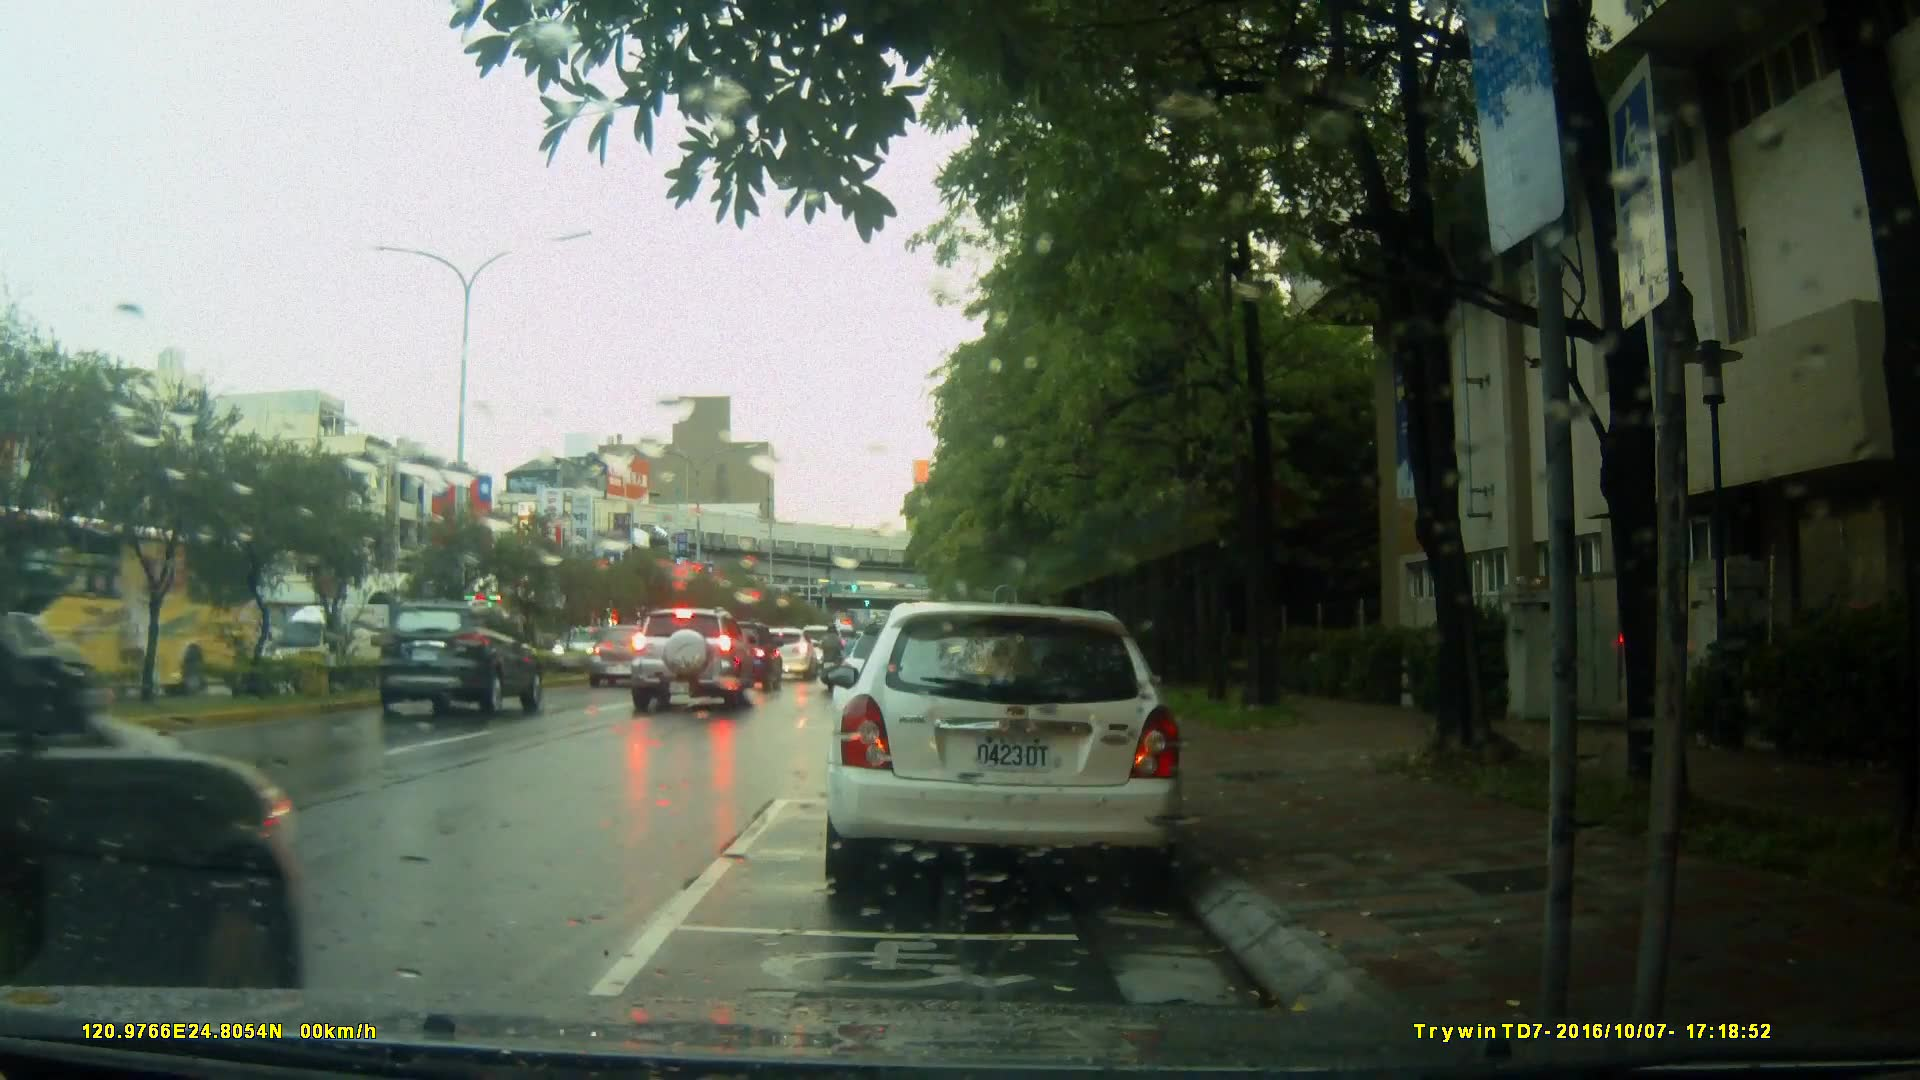rider: (815, 622, 850, 700)
vehicle: (1, 502, 302, 987), (820, 602, 1188, 898), (2, 528, 280, 686), (374, 596, 546, 717), (626, 606, 754, 717)
